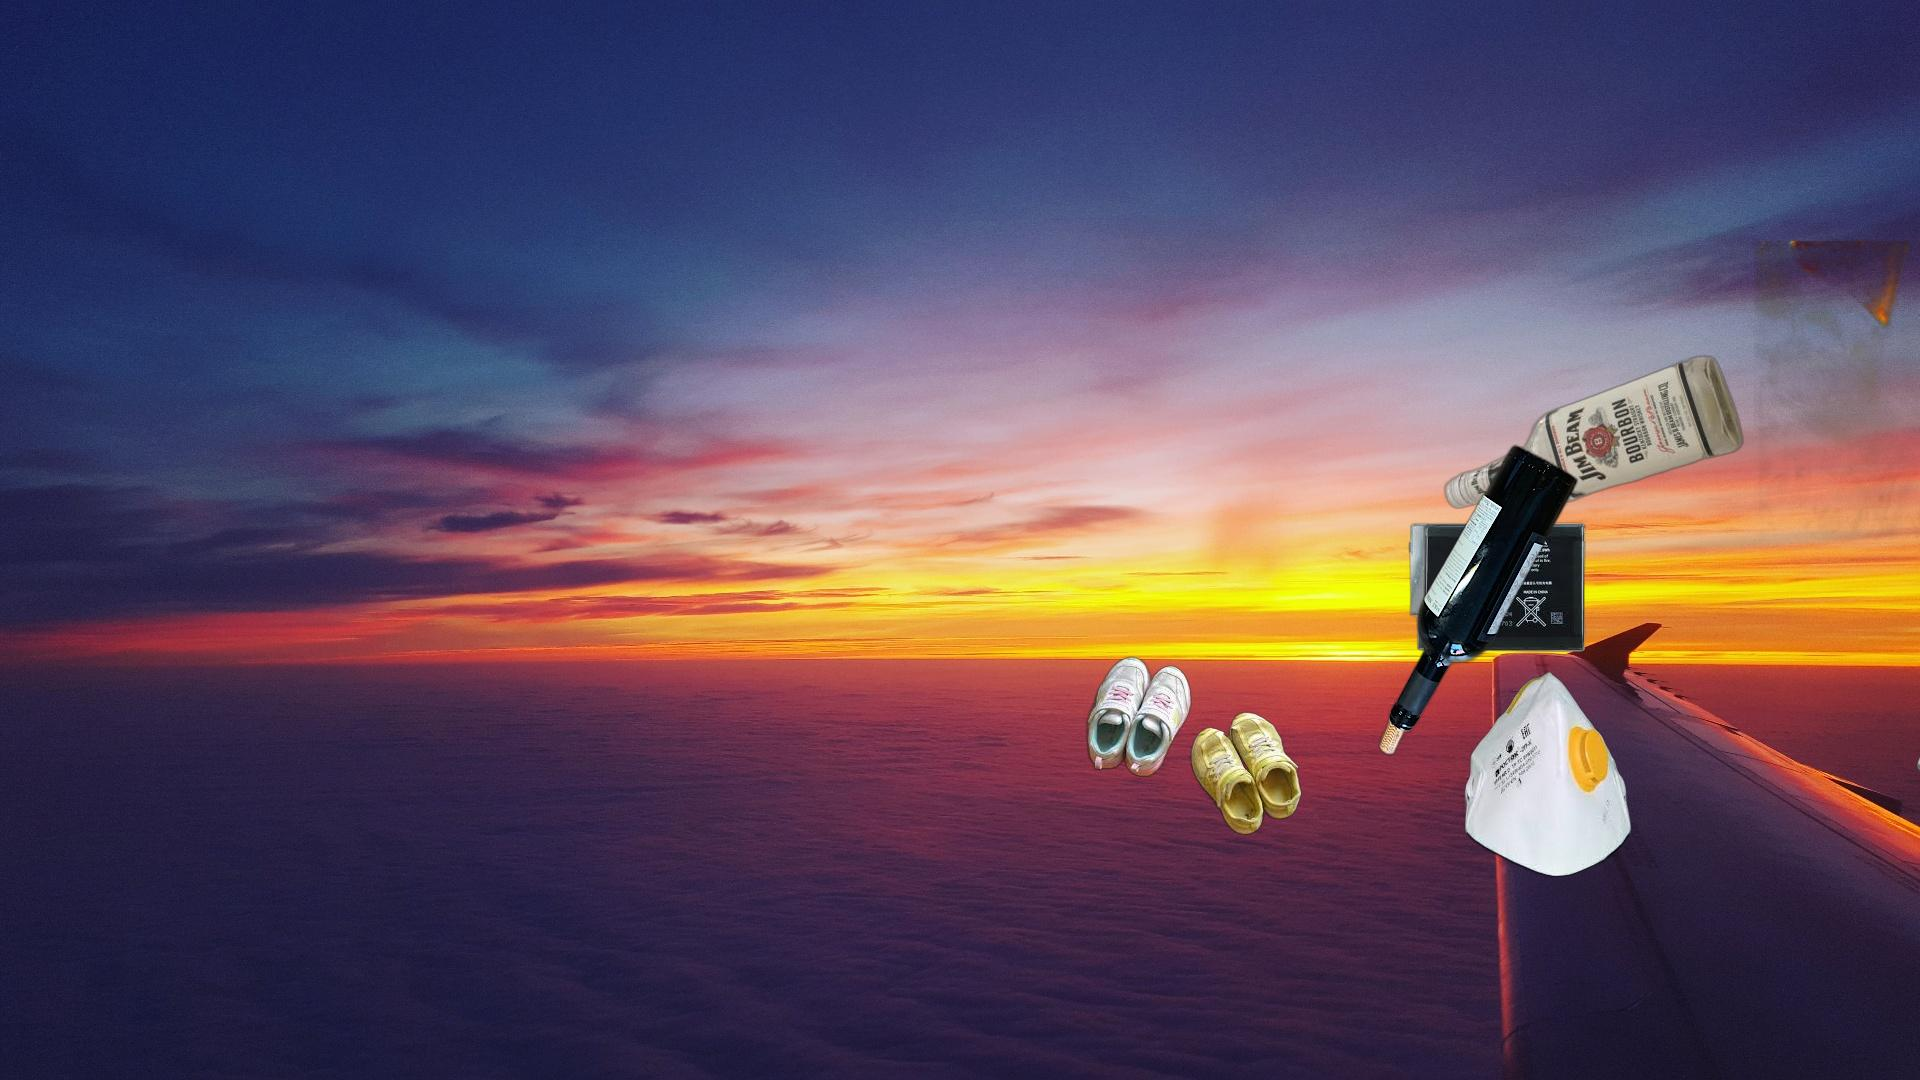battery: (1406, 520, 1588, 655)
glass: (1374, 440, 1581, 761), (1441, 352, 1747, 512)
paper: (1904, 348, 1920, 732)
plastic-bag: (1754, 241, 1920, 541)
shoes: (1084, 654, 1304, 837), (1916, 661, 1920, 796)
trash: (1461, 669, 1634, 880)
